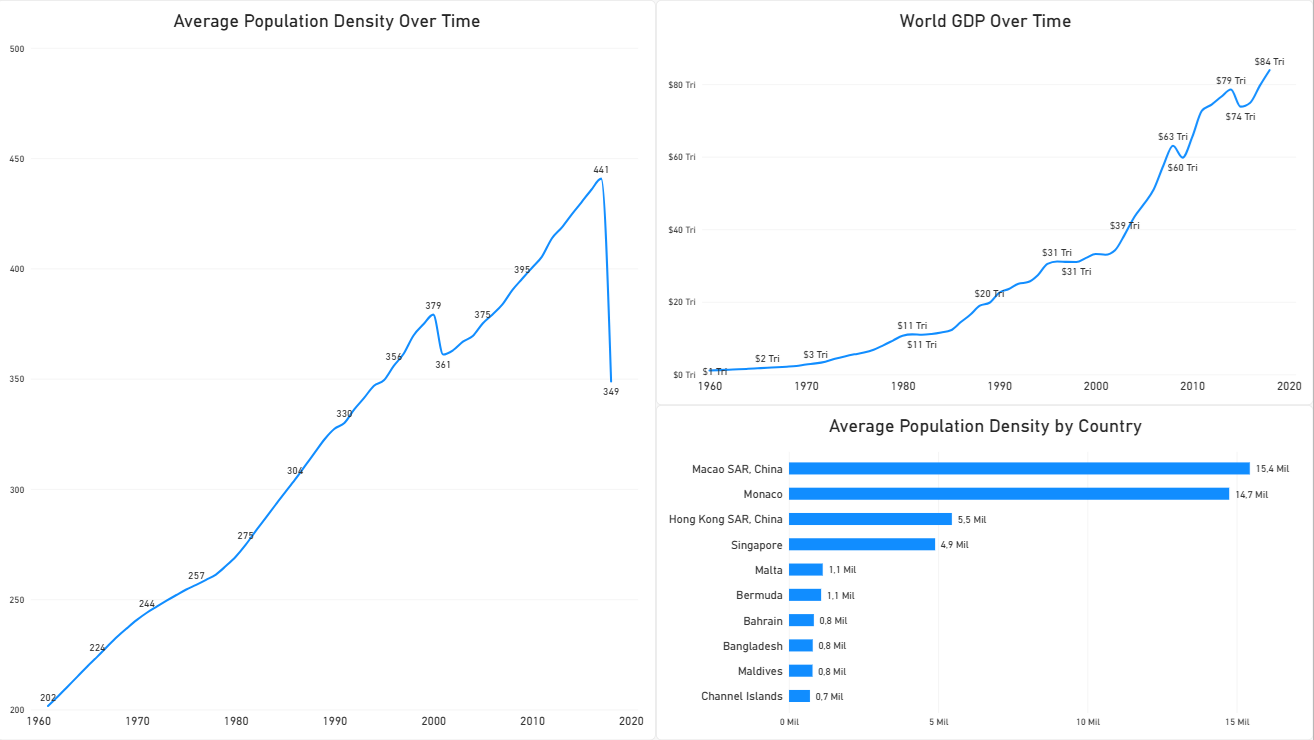

Layout of this report page (visuals, bound fields, positions):
{"tool":"powerbi","page":{"name":"Population & GDP Growth","canvas":[1920,1080],"ordinal":2},"visuals":[{"type":"lineChart","title":"World GDP Over Time","fields":{"Category":["Development Indicators.Year"],"Y":["Sum(Development Indicators.GDP (USD))"]},"box":[960.8,0,959.2,591.4],"z":0},{"type":"barChart","title":"Average Population Density by Country","fields":{"Category":["Development Indicators.Country Name"],"Y":["Avg(Development Indicators.Population density (people per sq. km of land area))"]},"box":[960.8,591.4,959.2,488.9],"z":1000},{"type":"lineChart","title":"Average Population Density Over Time","fields":{"Category":["Development Indicators.Year"],"Y":["Avg(Development Indicators.Population density (people per sq. km of land area))"]},"box":[0,0,960.8,1080.3],"z":2000}]}

Visuals, with their boxes in screenshot pixels (x1, y1, x2, y2), scaled from the page's 1920x1080 canvas onto the 1314x740 screenshot:
"World GDP Over Time" lineChart: 658 0 1313 405
"Average Population Density by Country" barChart: 658 405 1313 739
"Average Population Density Over Time" lineChart: 0 0 658 739
